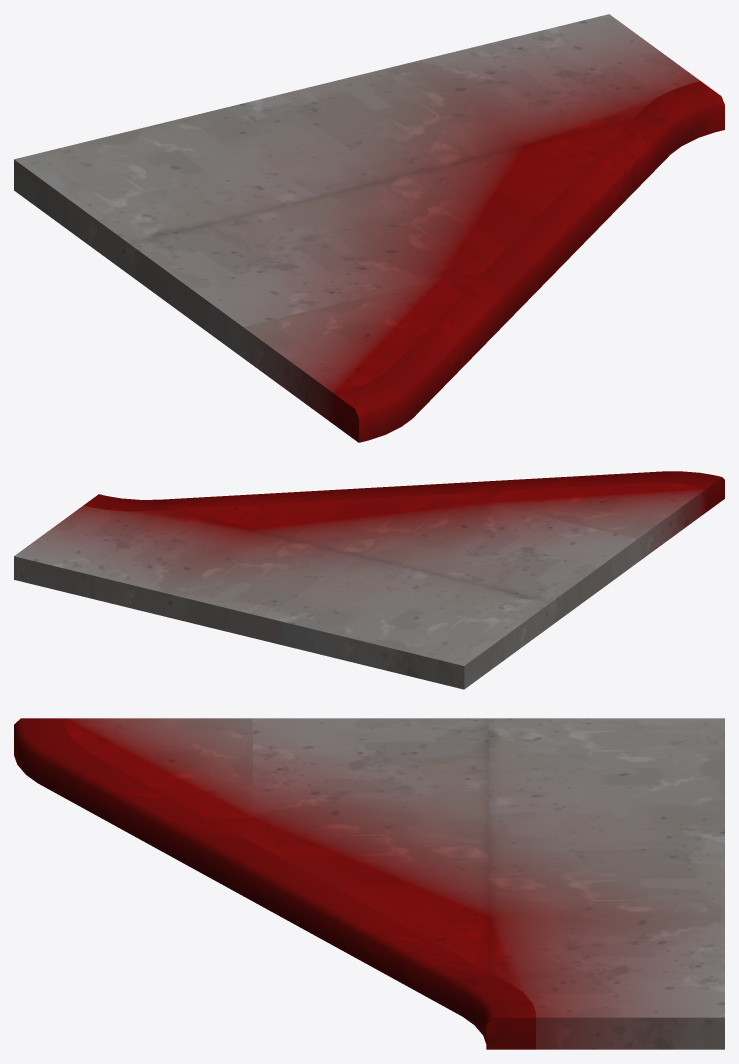
The model's file is Sidewalk_Inset_3m_L.gltf.
3 views of the same model, one above another, from view 1: azimuth 30°, elevation 25°; view 2: azimuth 150°, elevation 25°; view 3: azimuth 270°, elevation 25° (orthographic). The views are drawn at different scales.
Parts seen in each view (by area): view 1: Sidewalk_Inset_3m_L; view 2: Sidewalk_Inset_3m_L; view 3: Sidewalk_Inset_3m_L.
Part boxes in pixels (left/top/right/bottom): Sidewalk_Inset_3m_L: left=14, top=14, right=724, bottom=442; Sidewalk_Inset_3m_L: left=14, top=471, right=724, bottom=689; Sidewalk_Inset_3m_L: left=14, top=718, right=724, bottom=1049.
Size of the model in its own units: 3 by 0.15 by 3.01.
1 material, 1 textured.
